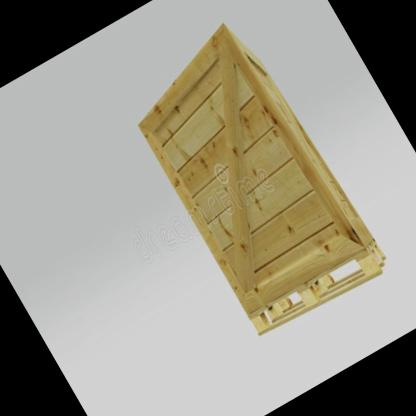BoxFace: (247, 234, 388, 337)
